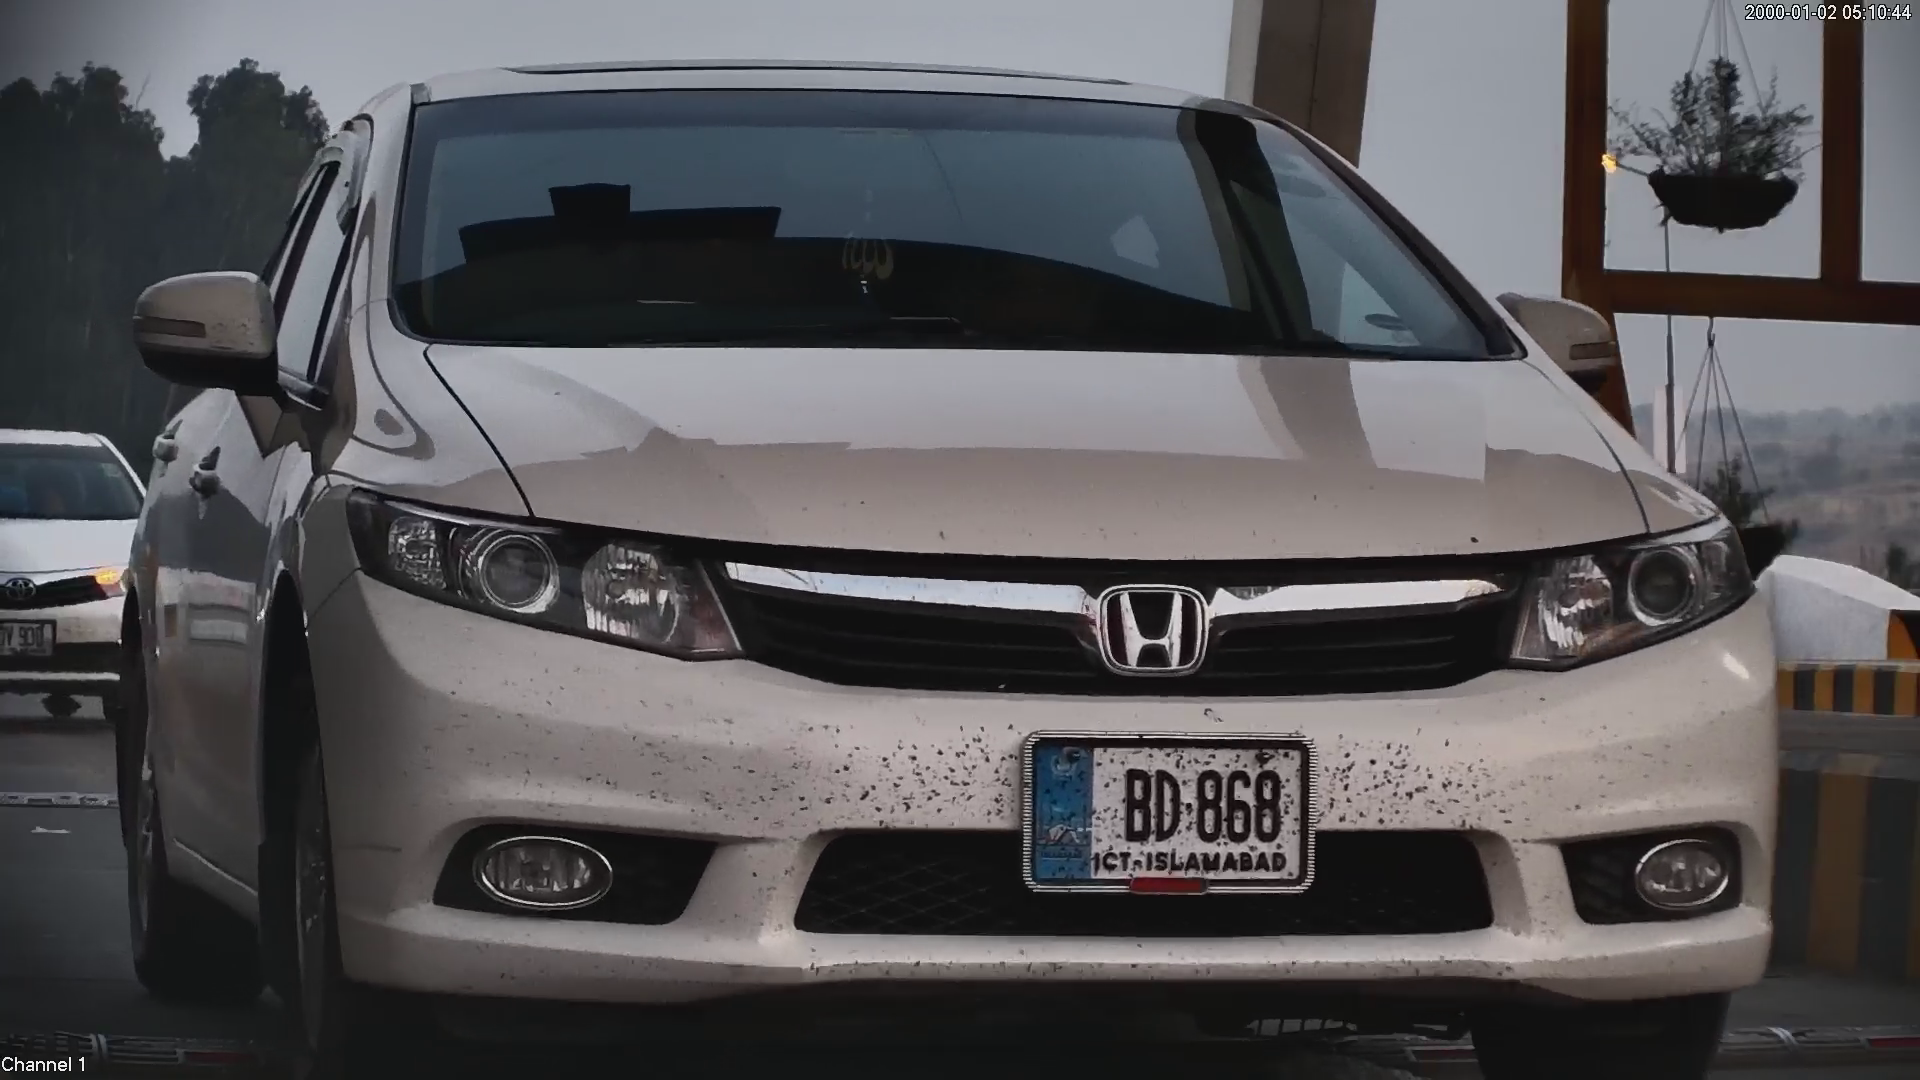Number_Plate: (1010, 725, 1324, 907)
